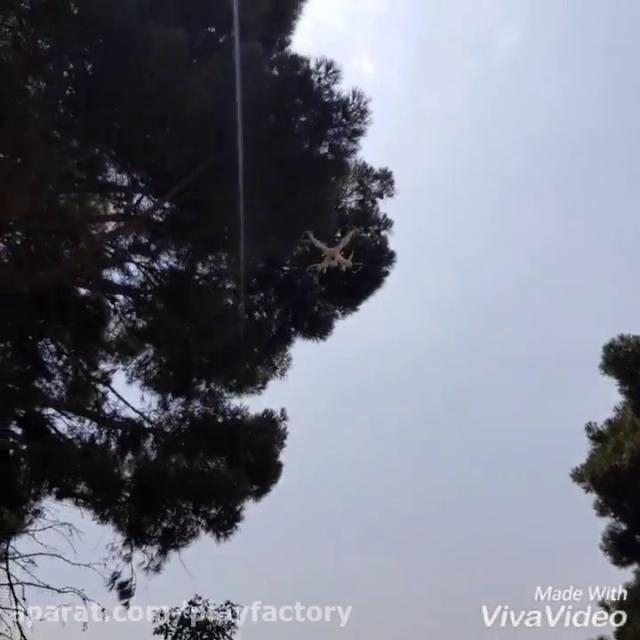drone: (301, 222, 368, 276)
